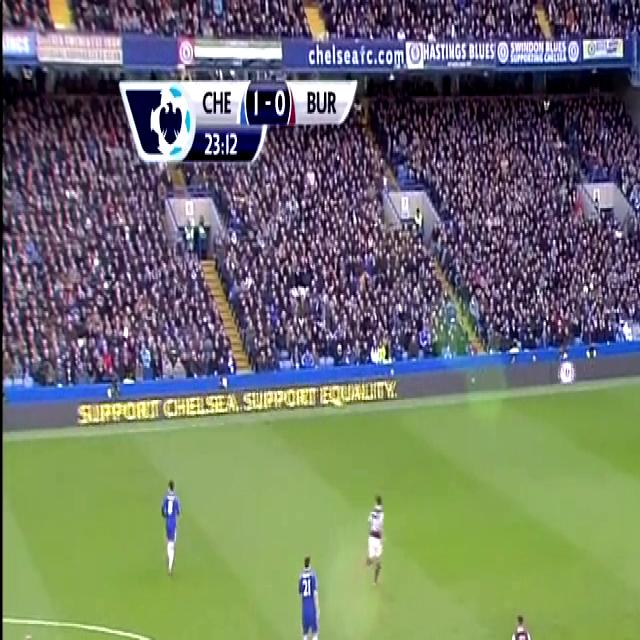soccer-player: (290, 544, 327, 640), (359, 483, 391, 592), (157, 472, 188, 582), (503, 604, 540, 640), (8, 626, 46, 640)
